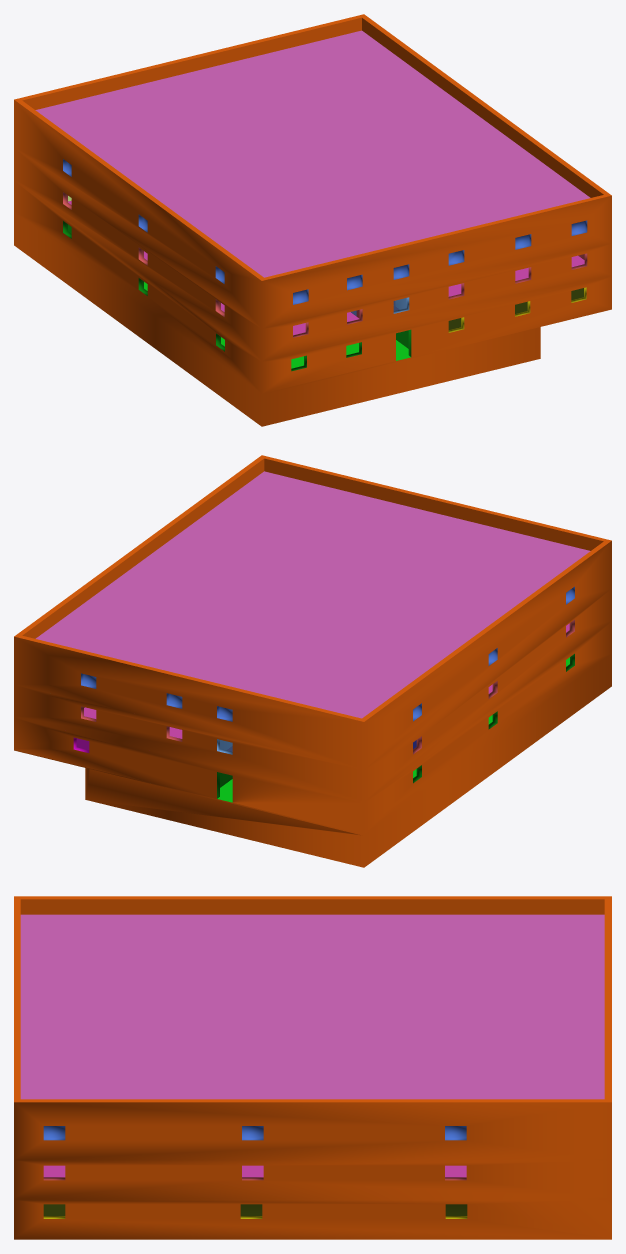
File: hotel-test.fbx
3 views of the same model, one above another, from view 1: azimuth 30°, elevation 25°; view 2: azimuth 150°, elevation 25°; view 3: azimuth 270°, elevation 25° (orthographic). The views are drawn at different scales.
Visible parts, largest first — view 1: roof, elevation.003, elevation.002, elevation, elevation.001, roofWindows, roomWall.002, corridorWall, roomFloor.002; view 2: roof, elevation.003, elevation.002, elevation, elevation.001, roofWindows; view 3: roof, elevation.003, elevation.002, elevation, roofWindows, roomFloor.002, bigRoomFloor2.
Boxes of the visible parts, bbox=[...] form: roof: bbox=[35, 30, 590, 277]; elevation.003: bbox=[14, 14, 611, 328]; elevation.002: bbox=[14, 148, 611, 361]; elevation: bbox=[14, 181, 611, 394]; elevation.001: bbox=[14, 214, 540, 426]; roofWindows: bbox=[63, 159, 587, 304]; roomWall.002: bbox=[63, 192, 587, 337]; corridorWall: bbox=[63, 221, 411, 371]; roomFloor.002: bbox=[68, 201, 584, 335]; roof: bbox=[35, 471, 590, 718]; elevation.003: bbox=[14, 455, 611, 769]; elevation.002: bbox=[14, 589, 611, 802]; elevation: bbox=[14, 622, 611, 835]; elevation.001: bbox=[85, 655, 611, 867]; roofWindows: bbox=[81, 586, 574, 721]; roof: bbox=[20, 914, 604, 1099]; elevation.003: bbox=[14, 896, 611, 1159]; elevation.002: bbox=[14, 1160, 611, 1199]; elevation: bbox=[14, 1200, 611, 1239]; roofWindows: bbox=[43, 1126, 466, 1140]; roomFloor.002: bbox=[43, 1165, 466, 1177]; bigRoomFloor2: bbox=[43, 1204, 467, 1215].
Bounding box in the file's own units: 13554 × 5398 × 16619.
